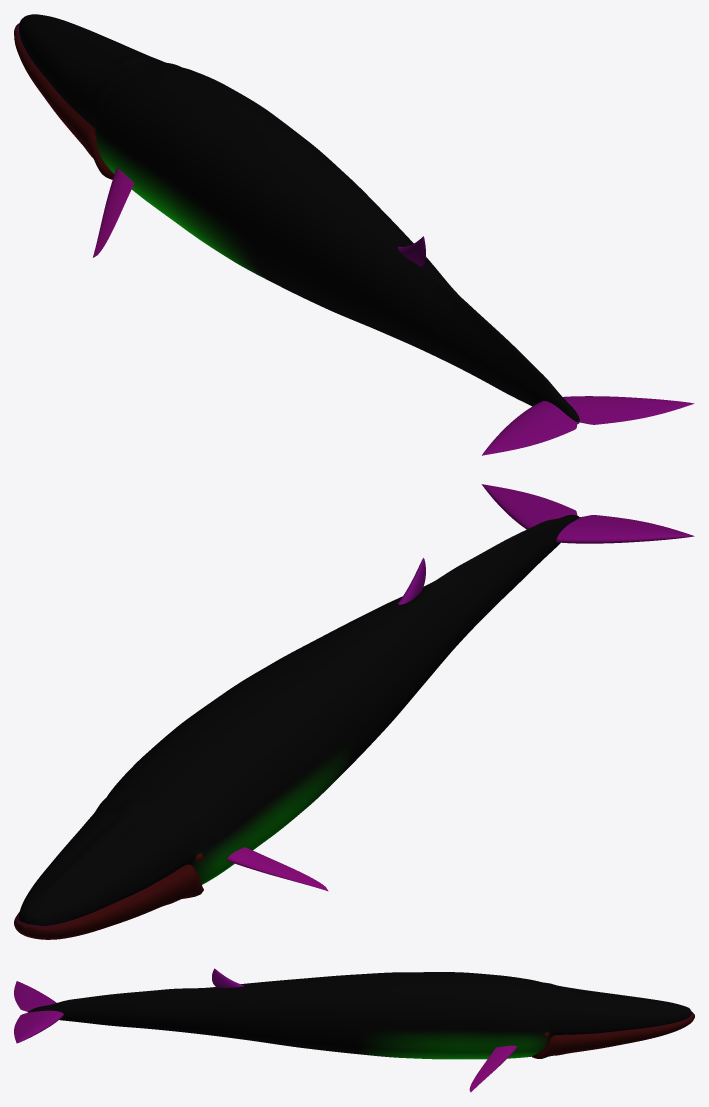
The model's file is fin_whale.glb.
3 renders of one model, top to bottom at view 1: azimuth 30°, elevation 25°; view 2: azimuth 150°, elevation 25°; view 3: azimuth 270°, elevation 25°, orthographic. The views are drawn at different scales.
Visible parts, largest first — view 1: fin_whale; view 2: fin_whale; view 3: fin_whale.
Part boxes in pixels (box(x1,y1,x2,y2)): fin_whale: box(14, 14, 694, 455); fin_whale: box(14, 484, 694, 939); fin_whale: box(14, 968, 694, 1092).
Size of the model in its own units: 4.87 by 2.94 by 20.22.
